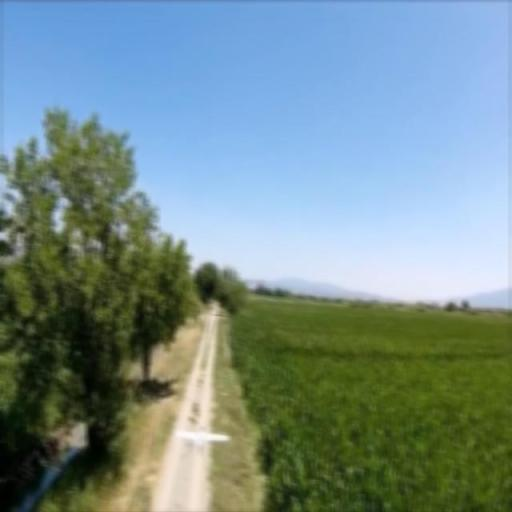uav: (170, 428, 232, 450)
